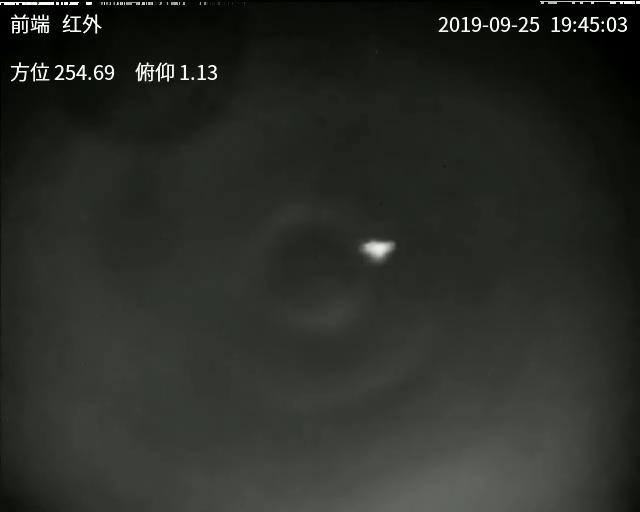uav: (357, 234, 397, 265)
